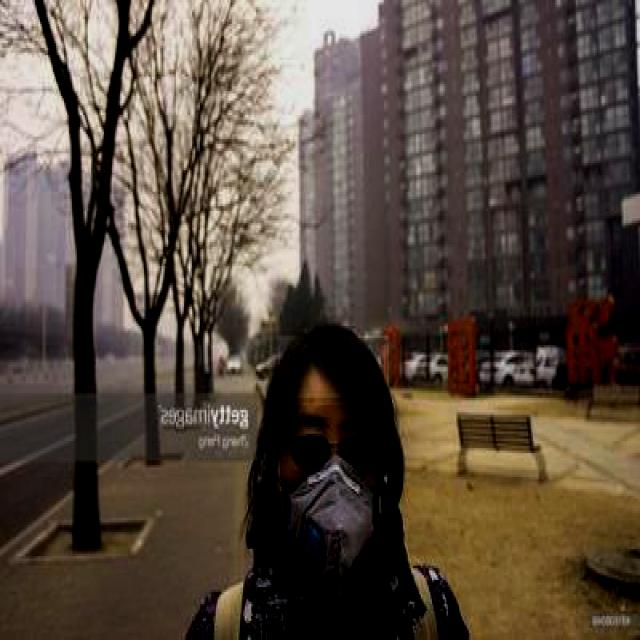face_mask: (278, 405, 384, 592)
glasses: (279, 418, 390, 483)
head_nohelmet: (277, 336, 389, 400)
